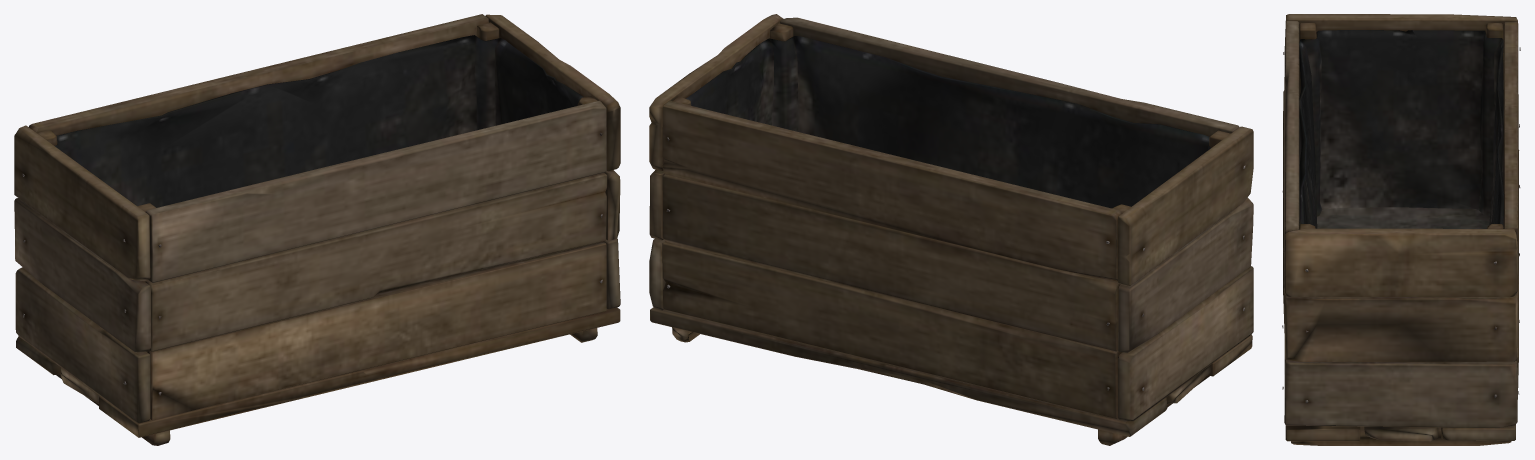
Rendered from planter.glb.
3 renders of one model, left to right at view 1: azimuth 30°, elevation 25°; view 2: azimuth 150°, elevation 25°; view 3: azimuth 270°, elevation 25°, orthographic. The views are drawn at different scales.
Bounding box in the file's own units: 0.9126 × 0.4249 × 0.4135.
Materials: 1 (1 with a texture image).
